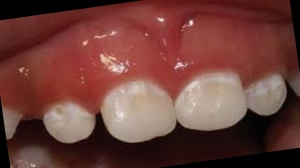Caries: (38, 96, 82, 123)
